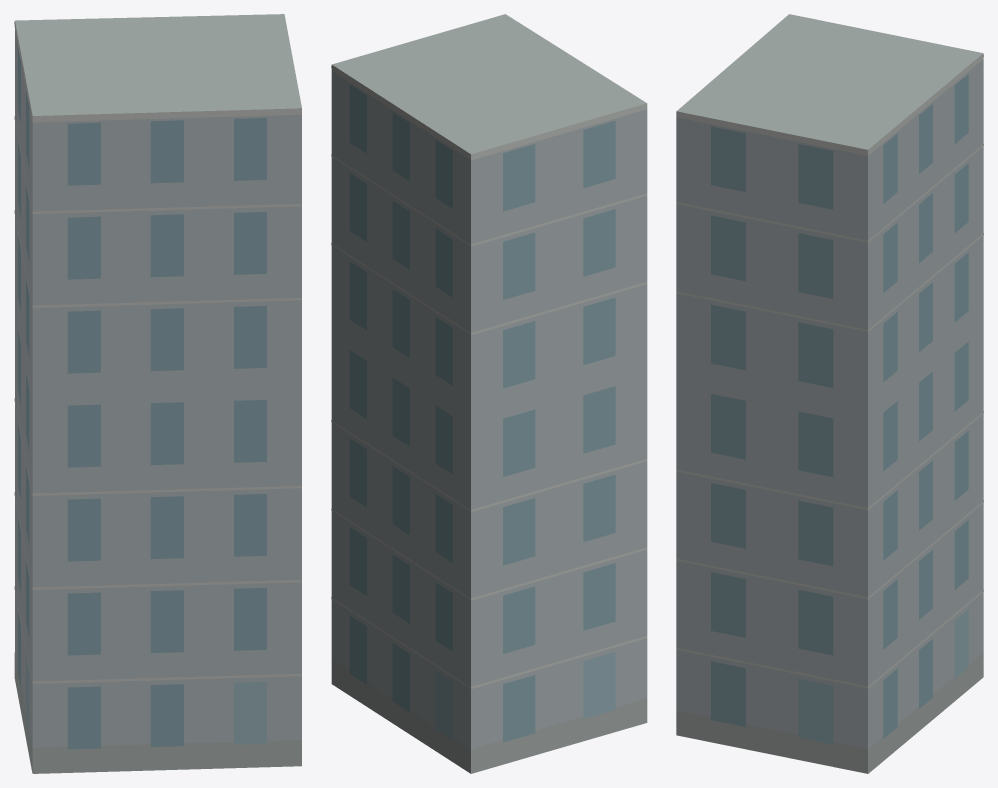
File: survey-upis-32935705.glb
3 renders of one model, left to right at view 1: azimuth 30°, elevation 25°; view 2: azimuth 150°, elevation 25°; view 3: azimuth 270°, elevation 25°, orthographic. The views are drawn at different scales.
Visible parts, largest first — view 1: survey-upis-32935705.tmp; view 2: survey-upis-32935705.tmp; view 3: survey-upis-32935705.tmp.
Boxes of the visible parts, x1,y1,x2,y2 form: survey-upis-32935705.tmp: (14, 14, 301, 773); survey-upis-32935705.tmp: (331, 14, 647, 773); survey-upis-32935705.tmp: (676, 14, 983, 773).
Bounding box in the file's own units: 11.84 × 25.3 × 11.31.
